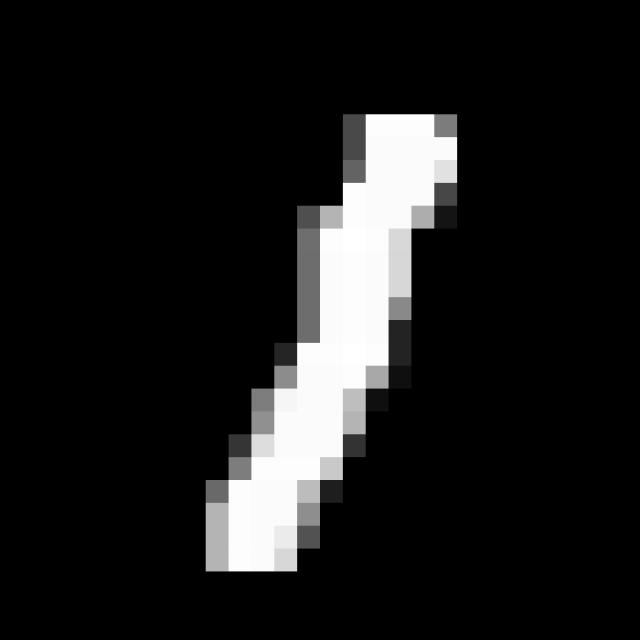one -1-: (182, 89, 476, 594)
